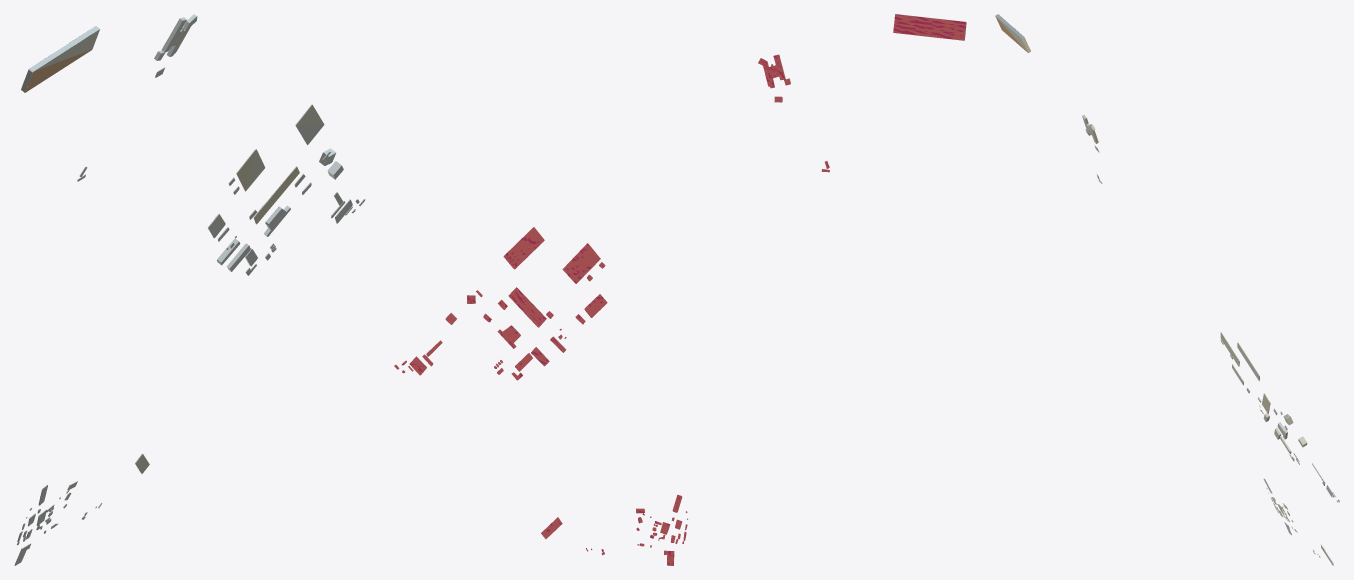
3 renders of one model, left to right at view 1: azimuth 30°, elevation 25°; view 2: azimuth 150°, elevation 25°; view 3: azimuth 270°, elevation 25°, orthographic. The views are drawn at different scales.
Parts seen in each view (by area): view 1: geometry_0; view 2: geometry_0; view 3: geometry_0.
Part boxes in pixels (<box>): geometry_0: <box>14,14,365,565</box>; geometry_0: <box>394,14,966,565</box>; geometry_0: <box>995,14,1339,565</box>.
Bounding box in the file's own units: 1761 × 2001 × 1370.
